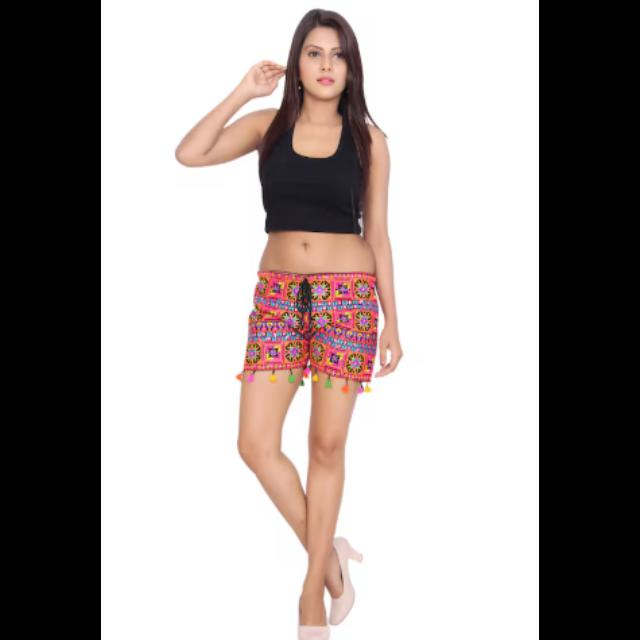bottom: (246, 271, 372, 394)
top: (264, 110, 360, 238)
